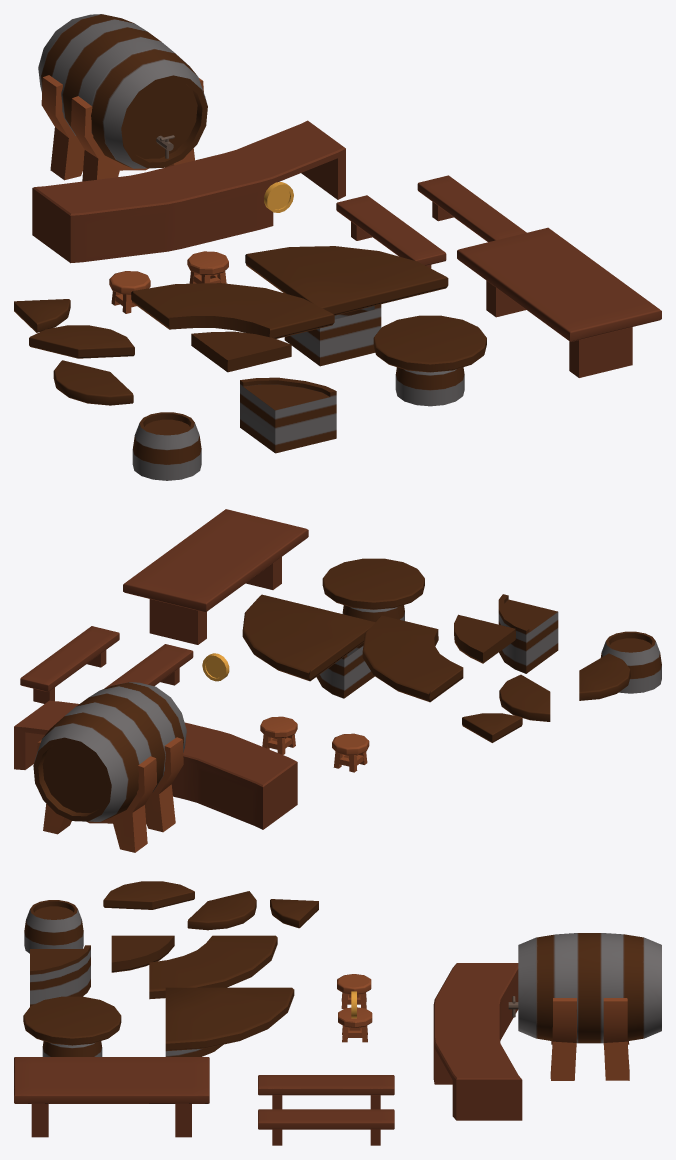
File: Assets_Unwapped_V3.fbx
The picture shows the model from 3 angles, top to bottom: view 1: azimuth 30°, elevation 25°; view 2: azimuth 150°, elevation 25°; view 3: azimuth 270°, elevation 25°; orthographic projection. The views are drawn at different scales.
Visible parts, largest first — view 1: Tavren_Bar, Keg_2, Long_Table_A, Big_Table_Unbroken_1, Big_Table_Broken_3, Small_Table_Unbroken_1, Big_Table_Broken_1, Small_Table_Broken_1, Long_Bench_2, Long_Bench_1, Big_Table_Broken_2, Small_Table_Broken_3 (+5 smaller); view 2: Keg_2, Long_Table_A, Tavren_Bar, Big_Table_Unbroken_1, Big_Table_Broken_3, Small_Table_Unbroken_1, Big_Table_Broken_1, Long_Bench_1, Small_Table_Broken_1, Big_Table_Broken_2, Long_Bench_2, Small_Table_Broken_2 (+5 smaller); view 3: Keg_2, Tavren_Bar, Long_Table_A, Big_Table_Unbroken_1, Big_Table_Broken_3, Small_Table_Unbroken_1, Long_Bench_1, Long_Bench_2, Big_Table_Broken_1, Small_Table_Broken_1, Small_Table_Broken_2, Big_Table_Broken_2 (+4 smaller).
Part boxes in pixels (left/top/right/bottom): Tavren_Bar: left=32, top=120, right=345, bottom=263; Keg_2: left=38, top=14, right=207, bottom=181; Long_Table_A: left=457, top=227, right=661, bottom=377; Big_Table_Unbroken_1: left=245, top=246, right=448, bottom=366; Big_Table_Broken_3: left=131, top=283, right=334, bottom=338; Small_Table_Unbroken_1: left=373, top=315, right=486, bottom=406; Big_Table_Broken_1: left=240, top=377, right=336, bottom=453; Small_Table_Broken_1: left=132, top=412, right=201, bottom=480; Long_Bench_2: left=336, top=195, right=446, bottom=268; Long_Bench_1: left=417, top=175, right=526, bottom=242; Big_Table_Broken_2: left=191, top=331, right=291, bottom=372; Small_Table_Broken_3: left=29, top=325, right=134, bottom=358; Keg_2: left=33, top=682, right=186, bottom=852; Long_Table_A: left=123, top=509, right=308, bottom=644; Tavren_Bar: left=14, top=700, right=297, bottom=829; Big_Table_Unbroken_1: left=242, top=594, right=375, bottom=698; Big_Table_Broken_3: left=362, top=615, right=463, bottom=702; Small_Table_Unbroken_1: left=322, top=558, right=424, bottom=621; Big_Table_Broken_1: left=498, top=594, right=558, bottom=673; Long_Bench_1: left=20, top=626, right=119, bottom=703; Small_Table_Broken_1: left=600, top=631, right=661, bottom=693; Big_Table_Broken_2: left=454, top=614, right=515, bottom=663; Long_Bench_2: left=104, top=644, right=193, bottom=688; Small_Table_Broken_2: left=579, top=653, right=630, bottom=700; Keg_2: left=508, top=933, right=661, bottom=1080; Tavren_Bar: left=433, top=963, right=522, bottom=1120; Long_Table_A: left=14, top=1057, right=209, bottom=1137; Big_Table_Unbroken_1: left=165, top=987, right=294, bottom=1056; Big_Table_Broken_3: left=149, top=935, right=277, bottom=999; Small_Table_Unbroken_1: left=23, top=996, right=121, bottom=1056; Long_Bench_1: left=258, top=1109, right=394, bottom=1145; Long_Bench_2: left=258, top=1075, right=394, bottom=1109; Big_Table_Broken_1: left=30, top=945, right=90, bottom=1006; Small_Table_Broken_1: left=24, top=900, right=83, bottom=953; Small_Table_Broken_2: left=103, top=881, right=194, bottom=909; Big_Table_Broken_2: left=111, top=935, right=174, bottom=972.
Size of the model in its own units: 39 by 9.93 by 48.04.
